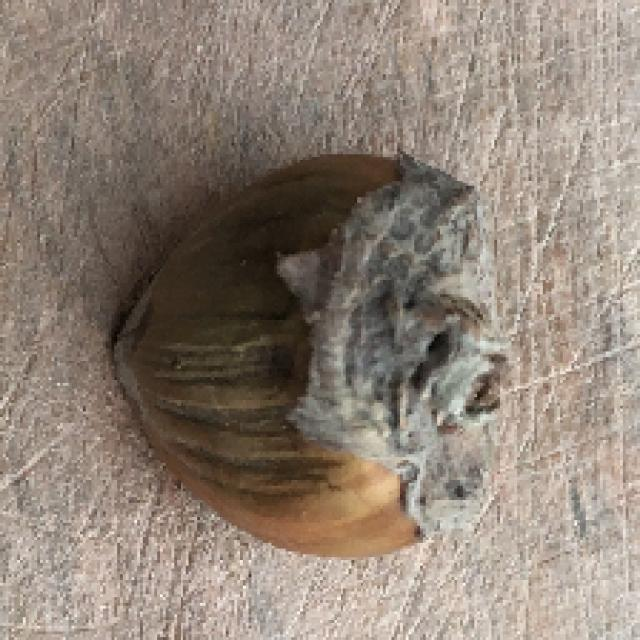DamagedHazelnut: (117, 152, 503, 555)
